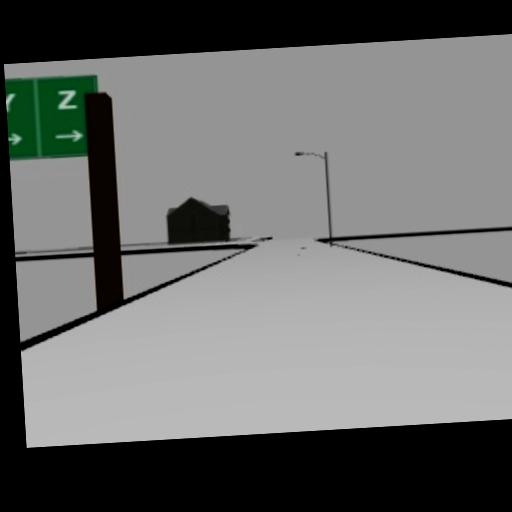Right: (53, 128, 84, 143), (8, 132, 24, 145)
Y: (5, 91, 17, 112)
Z: (55, 88, 79, 109)
